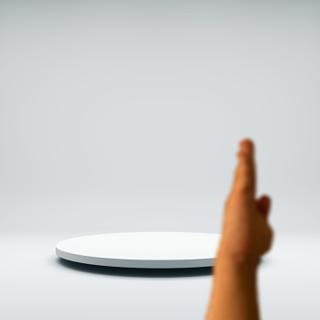RIGHT: (213, 133, 277, 262)
